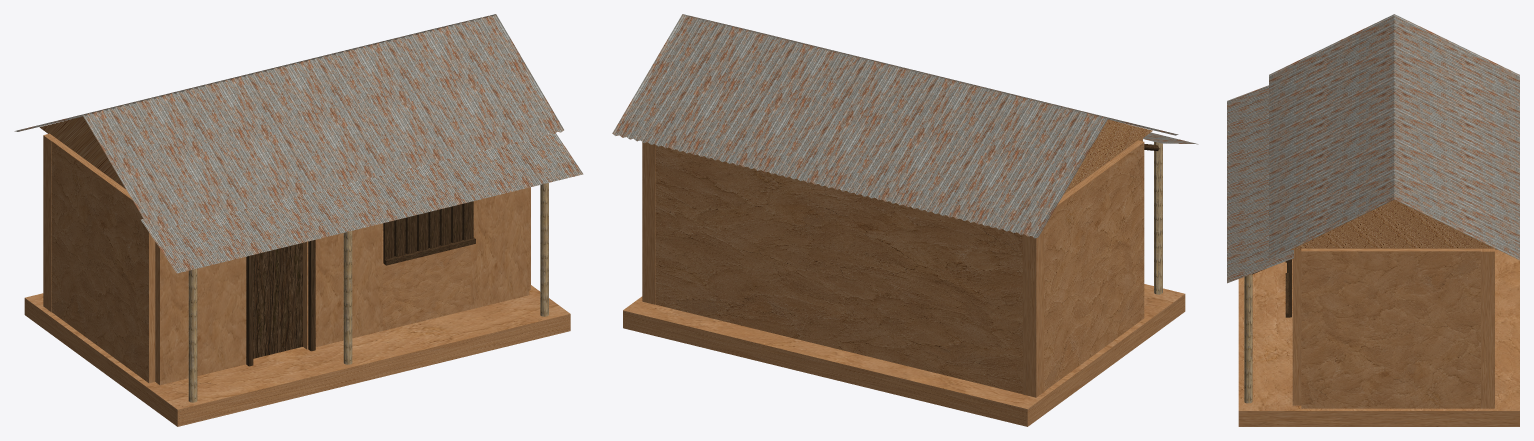
File: prop_house.glb
3 renders of one model, left to right at view 1: azimuth 30°, elevation 25°; view 2: azimuth 150°, elevation 25°; view 3: azimuth 270°, elevation 25°, orthographic. The views are drawn at different scales.
Parts seen in each view (by area): view 1: prop_house; view 2: prop_house; view 3: prop_house.
Part boxes in pixels (x1,y1,x2,y2): prop_house: (14, 14, 583, 426); prop_house: (612, 14, 1198, 426); prop_house: (1227, 14, 1519, 426).
Size of the model in its own units: 6 by 3.5 by 4.
Materials: 4 (4 with a texture image).
